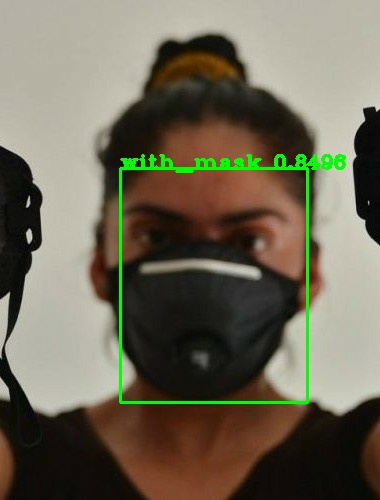with_mask: (110, 112, 325, 402)
